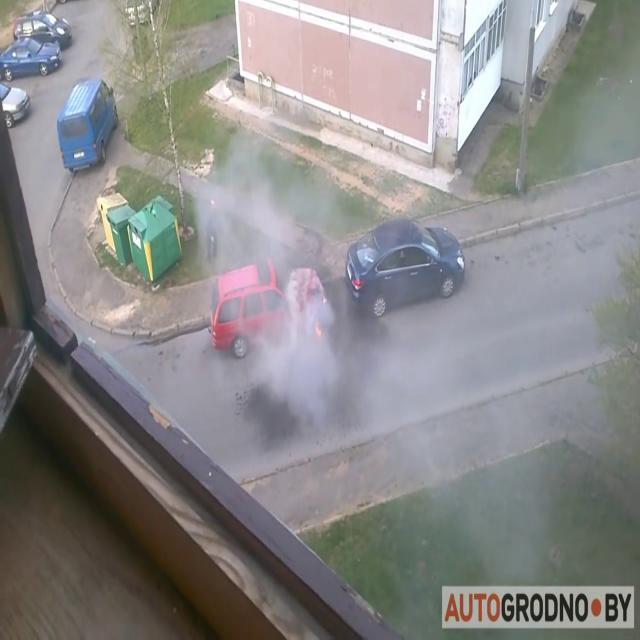Smoke: (192, 112, 374, 444)
